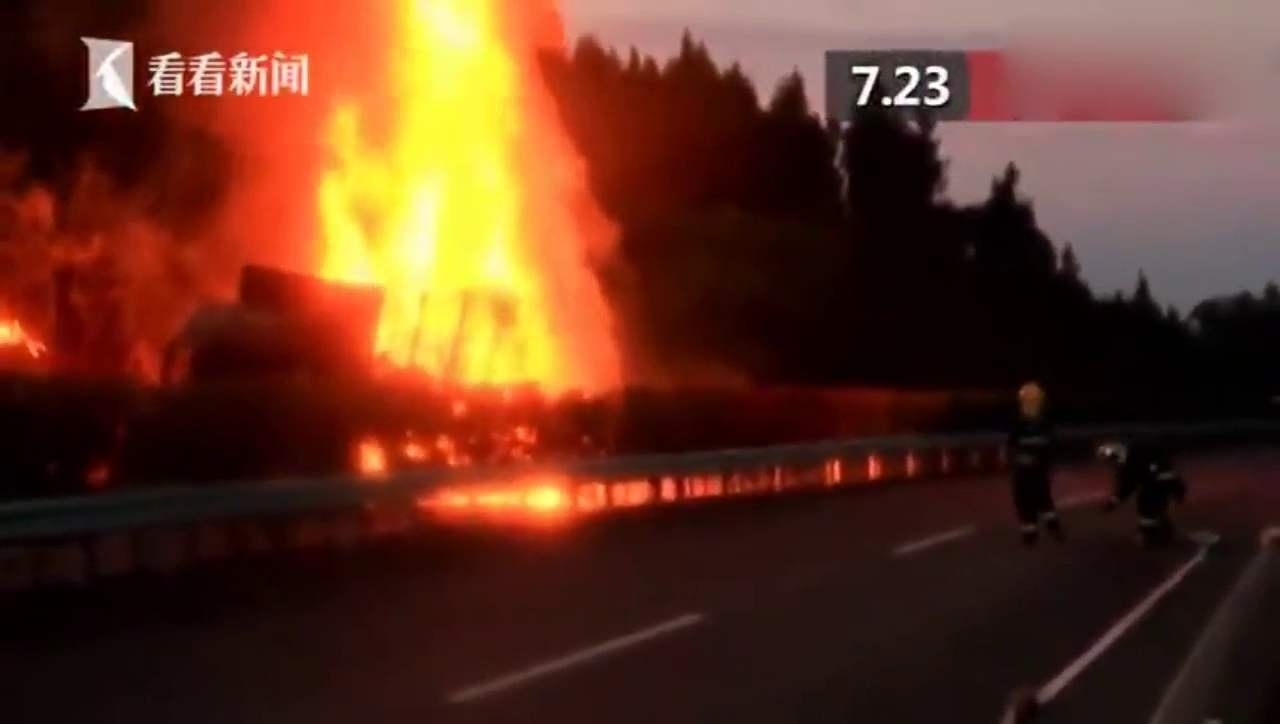fire: (310, 10, 622, 489)
